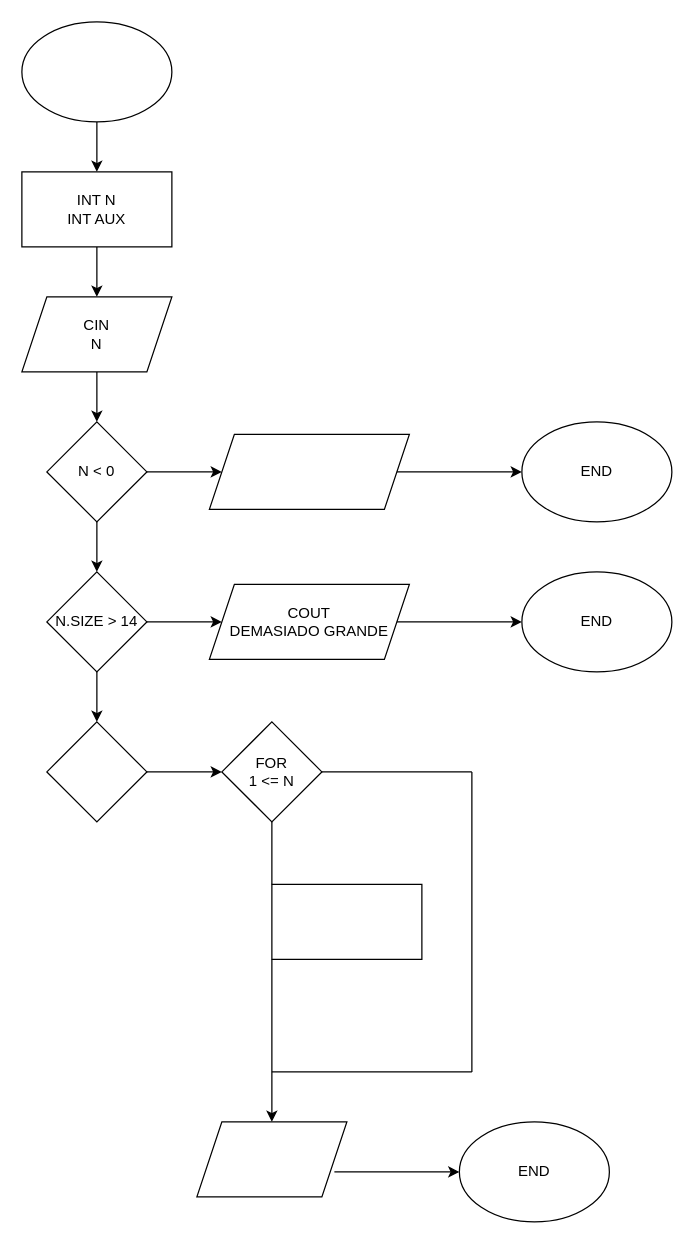
This 694x1244 diagram has some shape labels left out. The centre of each missing label's shape, as x and y in pixels:
AUX *= N[]: the point at 346,921
COUT AUX: the point at 271,1159
COUT NUMERO NEGATIVO: the point at 308,471
ELSE: the point at 96,771
START: the point at 96,71
